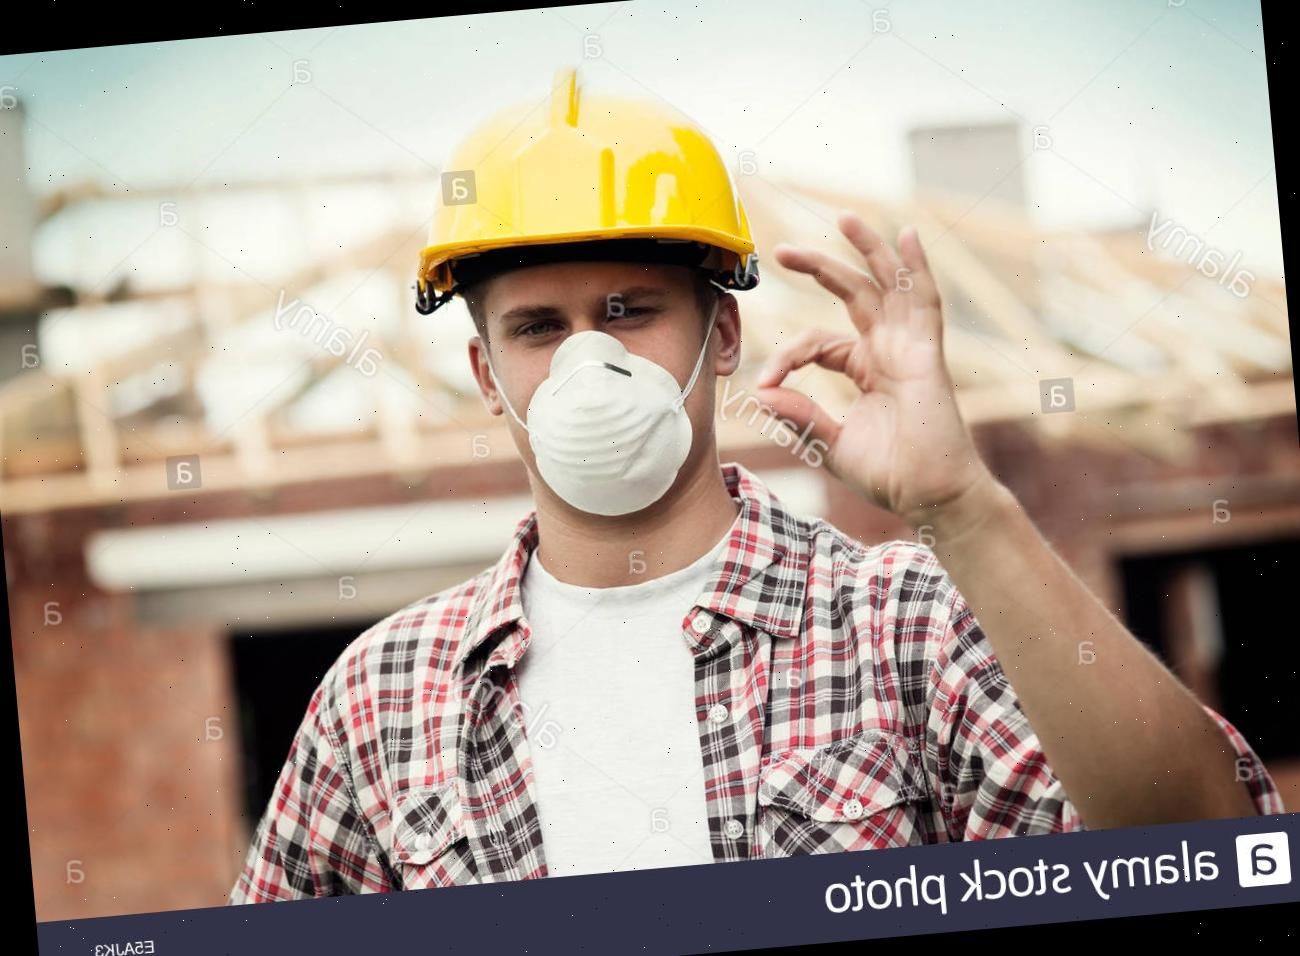helmet: (384, 36, 768, 316)
no_wear: (205, 512, 1031, 901)
